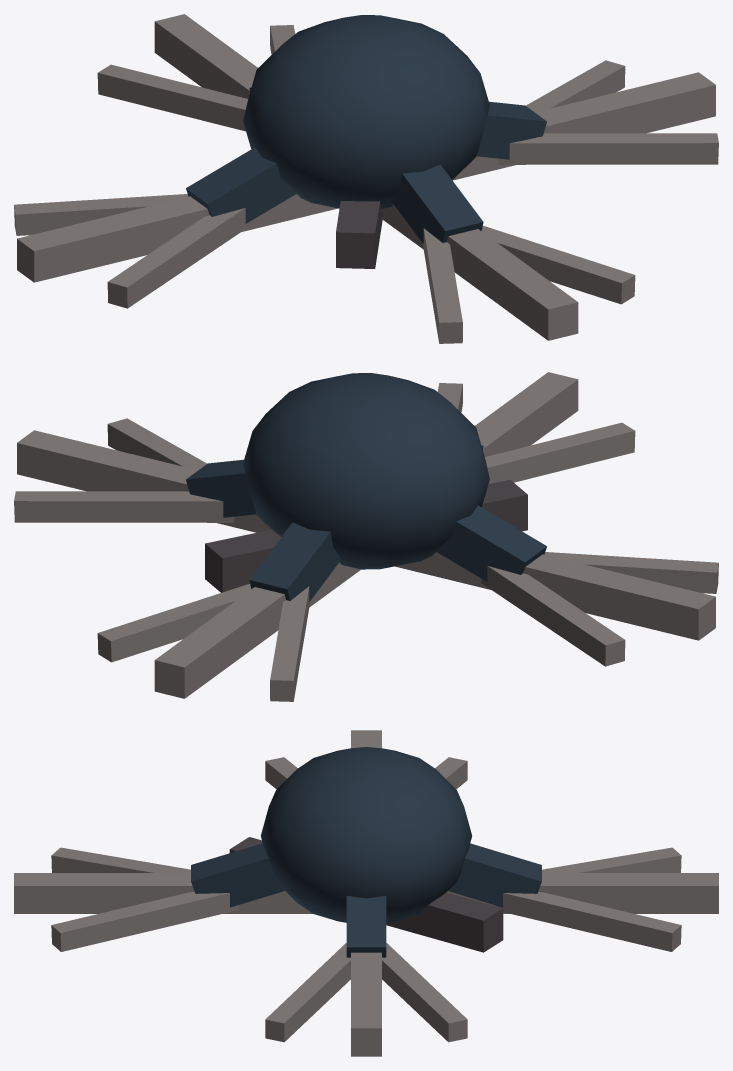
The model's file is CMU3DHiveCMU14XenoMyceliumWeedsSourceHidden.glb.
3 views of the same model, one above another, from view 1: azimuth 30°, elevation 25°; view 2: azimuth 150°, elevation 25°; view 3: azimuth 270°, elevation 25° (orthographic). The views are drawn at different scales.
Parts seen in each view (by area): view 1: root nodule, tile-joining root (×4), branching ground filament (×7), anchoring root (×3), central ground rhizome; view 2: root nodule, tile-joining root (×4), branching ground filament (×7), anchoring root (×3), central ground rhizome; view 3: root nodule, branching ground filament (×8), tile-joining root (×4), anchoring root (×3), central ground rhizome.
Part boxes in pixels (x1=…): root nodule: x1=243, y1=15, x2=489, y2=208; tile-joining root (×4): x1=17, y1=14, x2=715, y2=340; branching ground filament (×7): x1=14, y1=60, x2=718, y2=343; anchoring root (×3): x1=186, y1=101, x2=546, y2=243; central ground rhizome: x1=336, y1=201, x2=382, y2=268; root nodule: x1=243, y1=373, x2=489, y2=569; tile-joining root (×4): x1=17, y1=372, x2=715, y2=698; branching ground filament (×7): x1=14, y1=418, x2=718, y2=701; anchoring root (×3): x1=186, y1=459, x2=546, y2=601; central ground rhizome: x1=205, y1=479, x2=527, y2=592; root nodule: x1=261, y1=747, x2=471, y2=922; branching ground filament (×8): x1=51, y1=757, x2=681, y2=1042; tile-joining root (×4): x1=14, y1=730, x2=718, y2=1056; anchoring root (×3): x1=191, y1=843, x2=541, y2=957; central ground rhizome: x1=229, y1=837, x2=503, y2=952.
Size of the model in its own units: 1 by 0.24 by 1.
